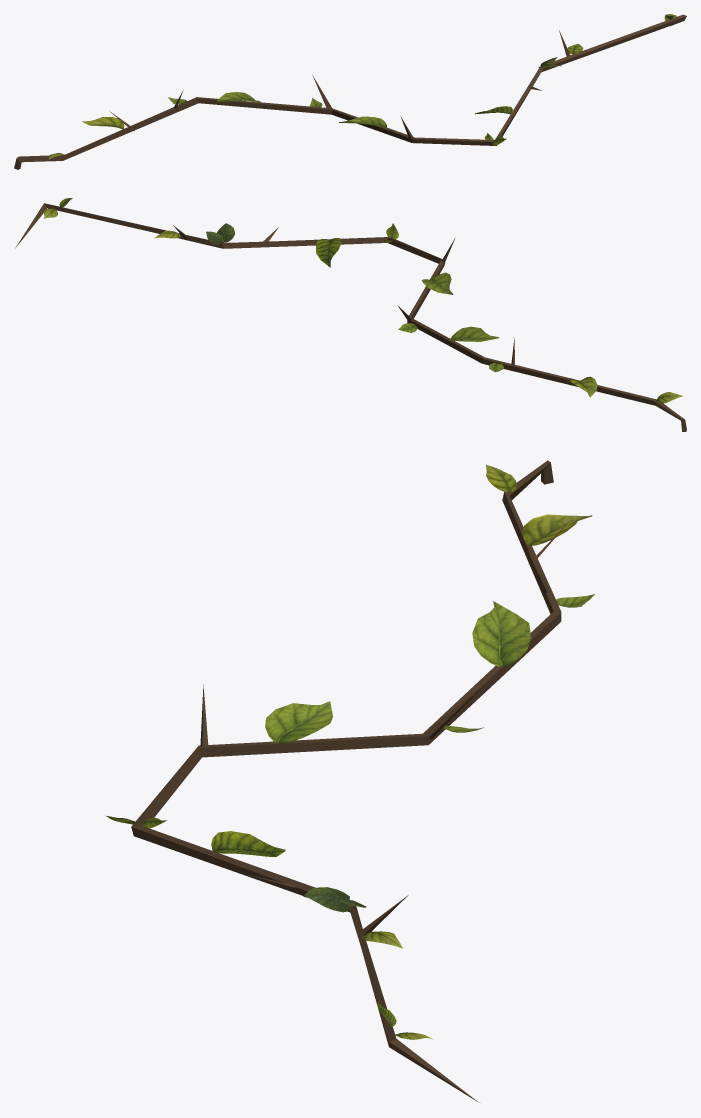
File: ivy_05.fbx
The picture shows the model from 3 angles, top to bottom: view 1: azimuth 30°, elevation 25°; view 2: azimuth 150°, elevation 25°; view 3: azimuth 270°, elevation 25°; orthographic projection. The views are drawn at different scales.
Visible parts, largest first — view 1: ivy_05; view 2: ivy_05; view 3: ivy_05.
Boxes of the visible parts, bbox=[...] form: ivy_05: bbox=[14, 14, 686, 169]; ivy_05: bbox=[15, 198, 686, 431]; ivy_05: bbox=[106, 460, 594, 1102].
Bounding box in the file's own units: 8.22 × 0.5501 × 2.73.
